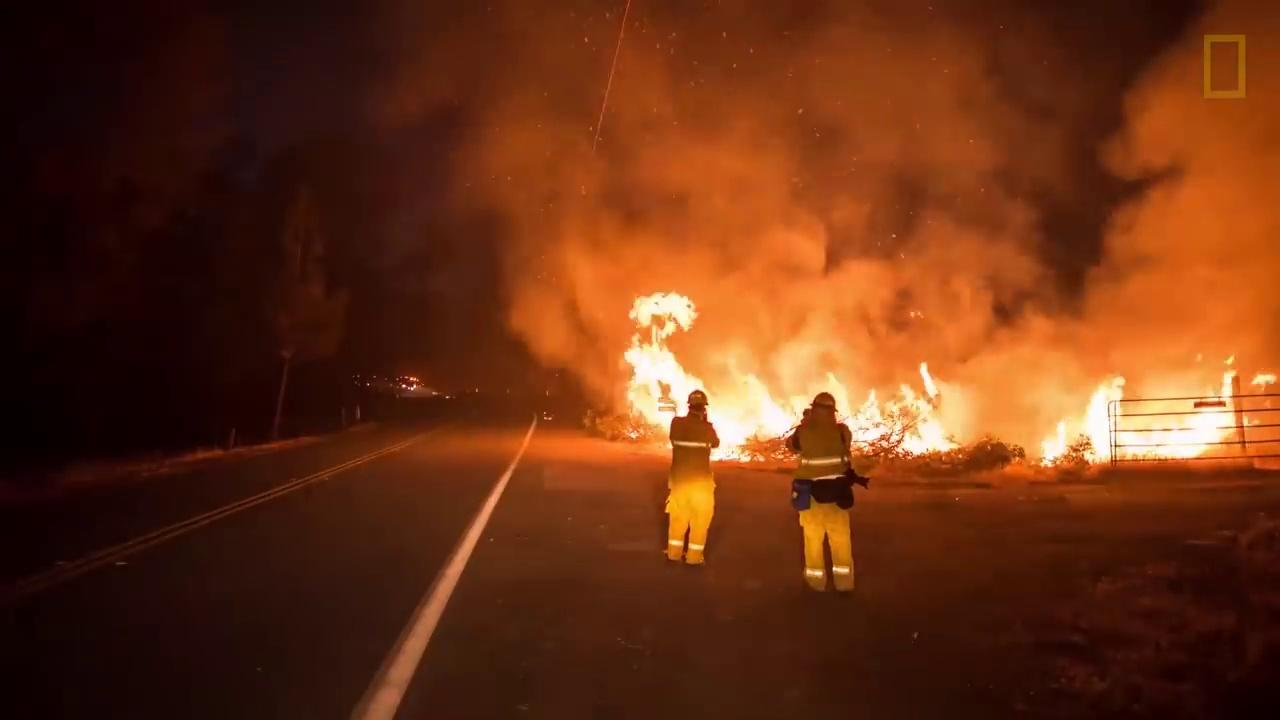Fire: (617, 299, 956, 464), (1035, 369, 1278, 464)
